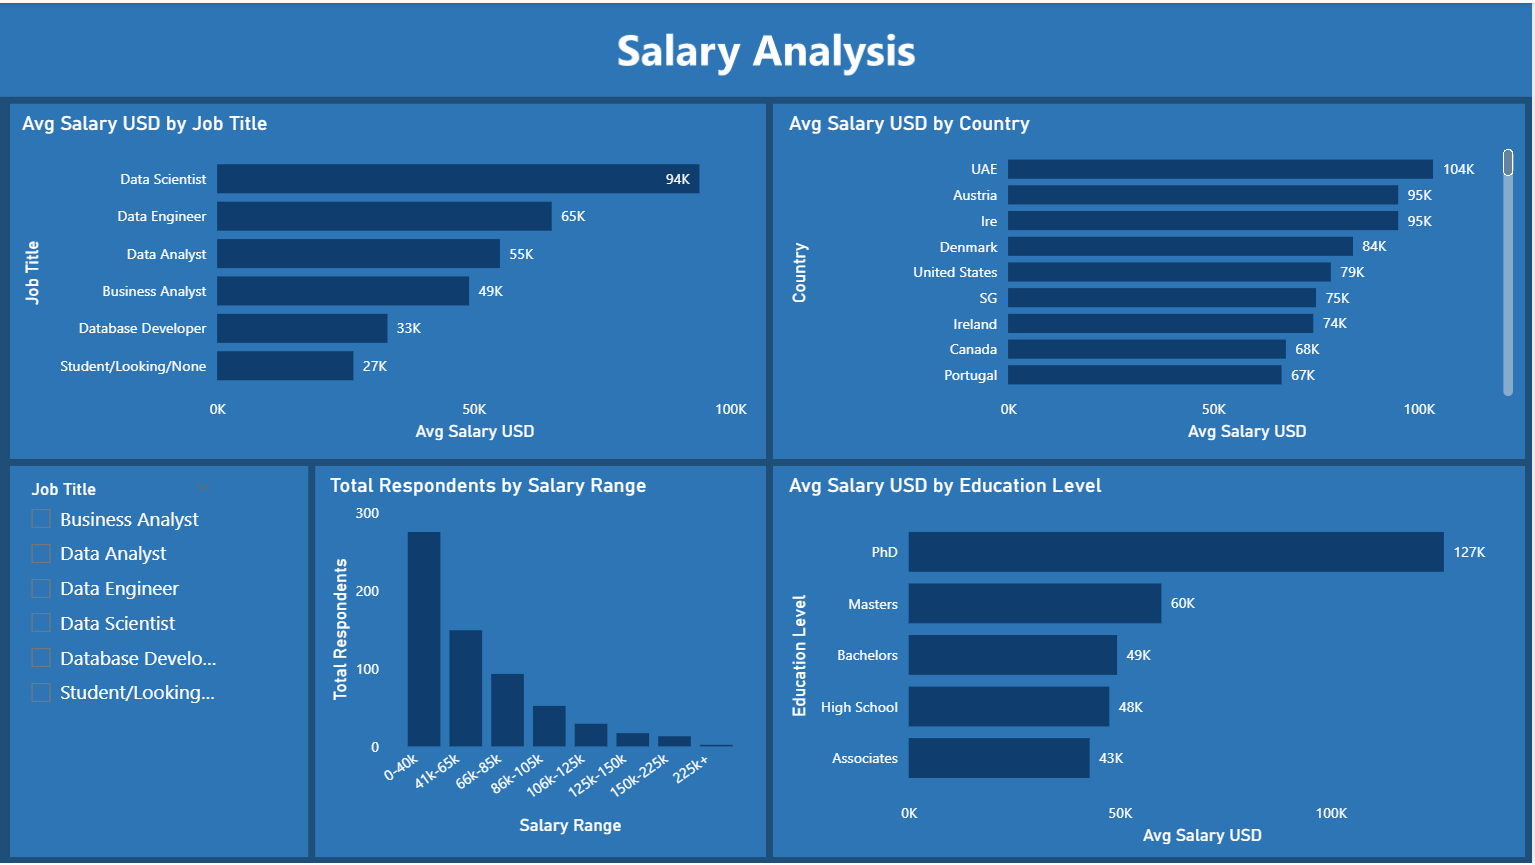

Layout of this report page (visuals, bound fields, positions):
{"tool":"powerbi","page":{"name":"Salary Analysis","canvas":[1280,720],"ordinal":1},"visuals":[{"type":"clusteredBarChart","fields":{"Category":["Data Professional Survey.Job Title"],"Y":["Data Professional Survey.Avg Salary USD"]},"box":[13.6,90.5,617.6,280.1],"z":0},{"type":"clusteredBarChart","fields":{"Category":["Data Professional Survey.Country"],"Y":["Data Professional Survey.Avg Salary USD"]},"box":[653.6,90.5,614.7,280.1],"z":1000},{"type":"clusteredColumnChart","fields":{"Category":["Data Professional Survey.Salary Range"],"Y":["Data Professional Survey.Total Respondents"]},"box":[270.4,392.9,360.9,307.4],"z":2000},{"type":"clusteredBarChart","fields":{"Y":["Data Professional Survey.Avg Salary USD"],"Category":["Data Professional Survey.Education Level"]},"box":[653.6,392.9,614.7,315.1],"z":3000},{"type":"slicer","fields":{"Values":["Data Professional Survey.Job Title"]},"box":[13.6,392.9,175.1,307.4],"z":4000}]}

Visuals, with their boxes in screenshot pixels (x1, y1, x2, y2), scaled from the page's 1280x720 canvas onto the 1535x865 screenshot:
clusteredBarChart - Data Professional Survey.Job Title x Data Professional Survey.Avg Salary USD: rect(16, 109, 757, 445)
clusteredBarChart - Data Professional Survey.Country x Data Professional Survey.Avg Salary USD: rect(784, 109, 1521, 445)
clusteredColumnChart - Data Professional Survey.Salary Range x Data Professional Survey.Total Respondents: rect(324, 472, 757, 841)
clusteredBarChart - Data Professional Survey.Avg Salary USD x Data Professional Survey.Education Level: rect(784, 472, 1521, 851)
slicer - Data Professional Survey.Job Title: rect(16, 472, 226, 841)
